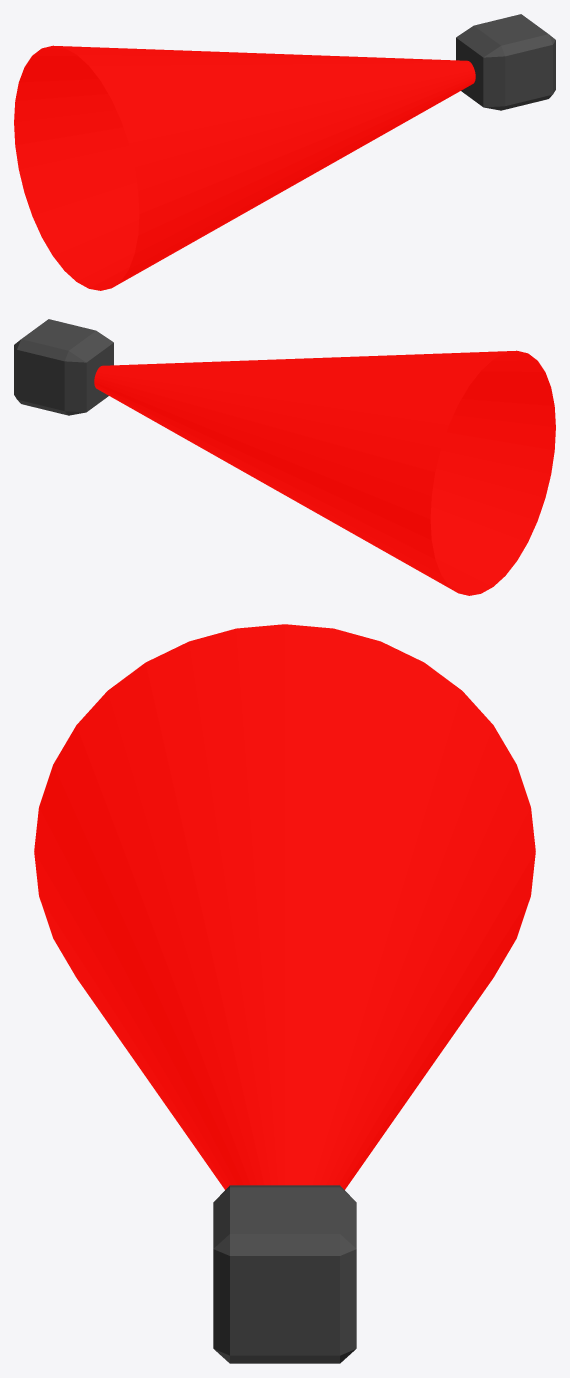
File: red_light.glb
The picture shows the model from 3 angles, top to bottom: view 1: azimuth 30°, elevation 25°; view 2: azimuth 150°, elevation 25°; view 3: azimuth 270°, elevation 25°; orthographic projection. The views are drawn at different scales.
Visible parts, largest first — view 1: Cone, Cube; view 2: Cone, Cube; view 3: Cone, Cube.
Boxes of the visible parts, bbox=[...] form: Cone: bbox=[14, 45, 475, 290]; Cube: bbox=[456, 14, 555, 110]; Cone: bbox=[94, 350, 555, 595]; Cube: bbox=[14, 319, 113, 415]; Cone: bbox=[34, 624, 535, 1189]; Cube: bbox=[213, 1185, 356, 1363].
Bounding box in the file's own units: 15 × 7 × 7.
